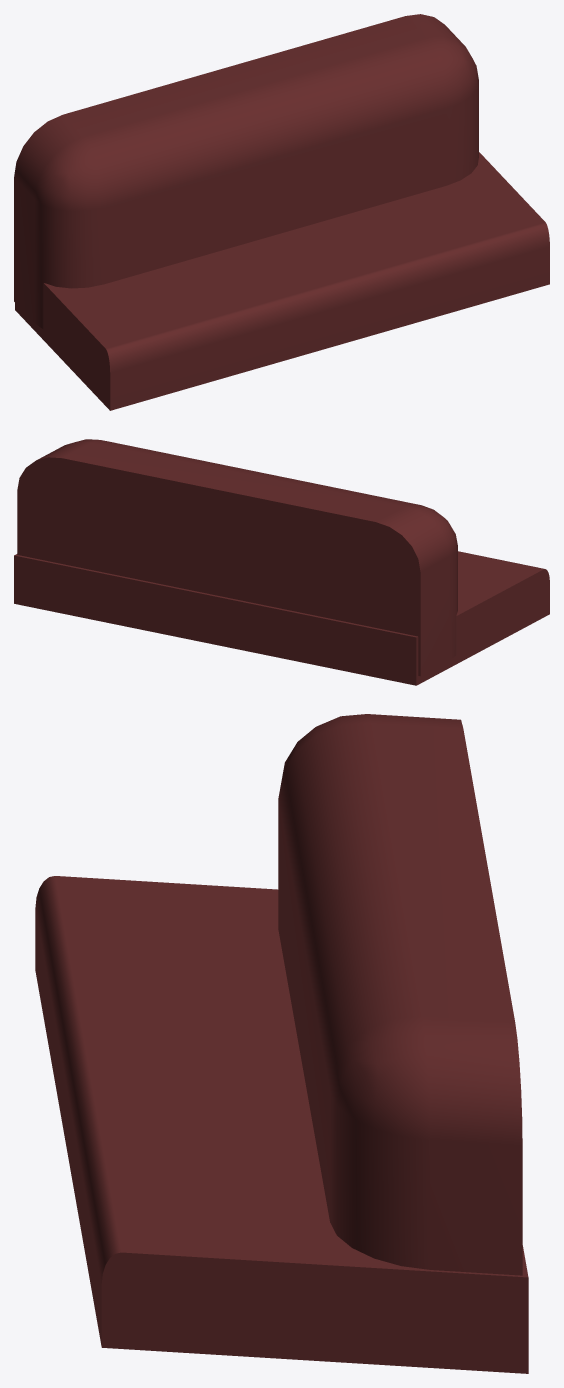
File: couch.fbx
The picture shows the model from 3 angles, top to bottom: view 1: azimuth 30°, elevation 25°; view 2: azimuth 150°, elevation 25°; view 3: azimuth 270°, elevation 25°; orthographic projection. The views are drawn at different scales.
Visible parts, largest first — view 1: polySurface7718, polySurface7715; view 2: polySurface7718, polySurface7715; view 3: polySurface7715, polySurface7718.
Part boxes in pixels (x1,y1,x2,y2): polySurface7718: [14, 14, 478, 328]; polySurface7715: [15, 152, 549, 410]; polySurface7718: [17, 439, 457, 676]; polySurface7715: [14, 551, 549, 685]; polySurface7715: [35, 876, 528, 1373]; polySurface7718: [278, 714, 522, 1275].
Bounding box in the file's own units: 5.2 × 1.86 × 2.69.
